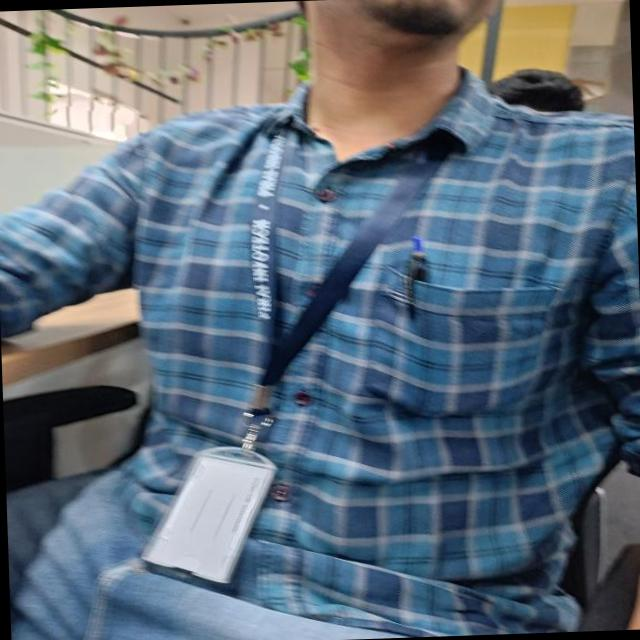id_card: (130, 105, 456, 588)
